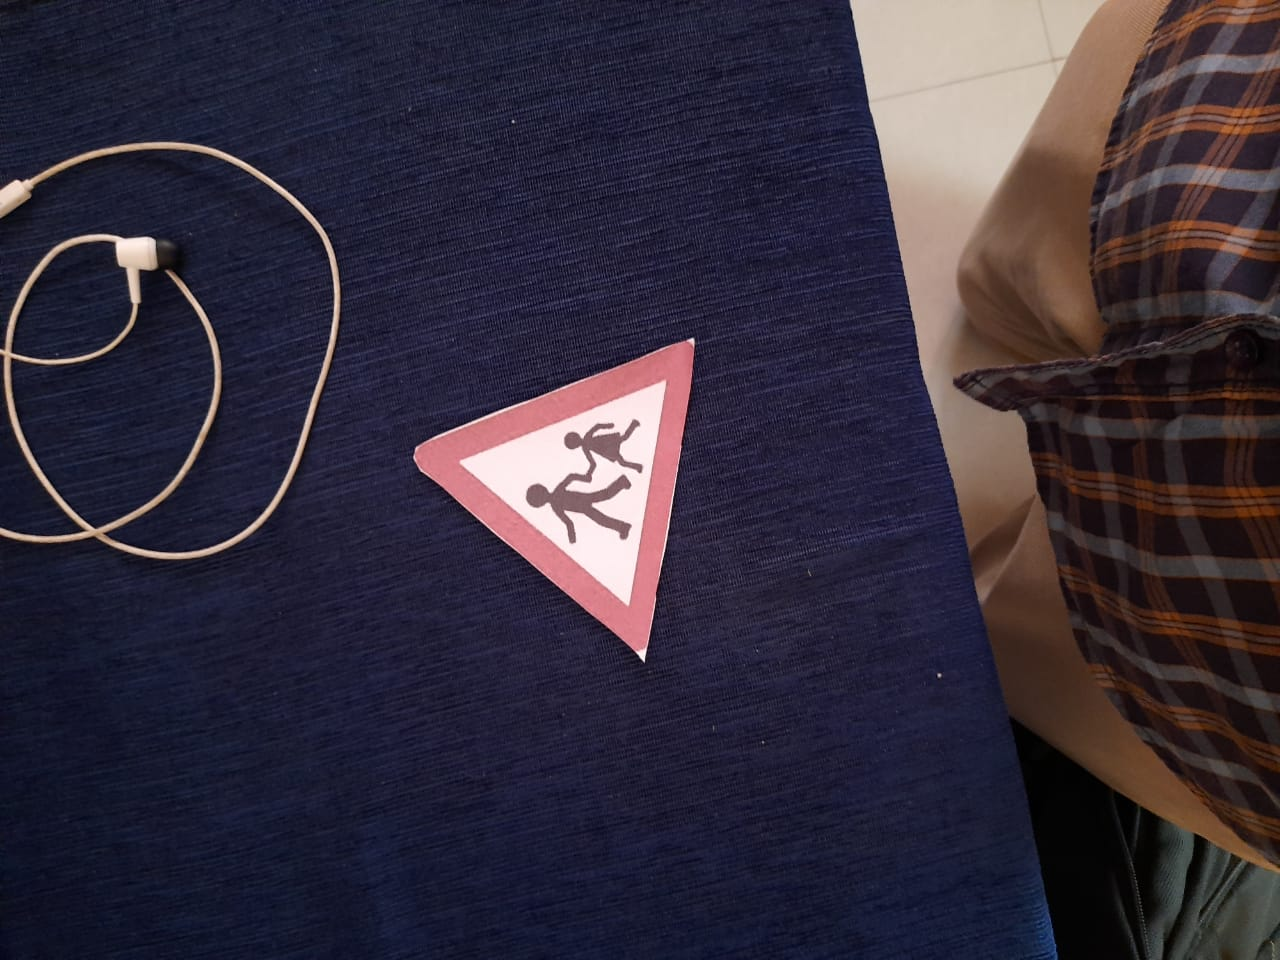SCHOOL ZONE: (414, 310, 717, 663)
